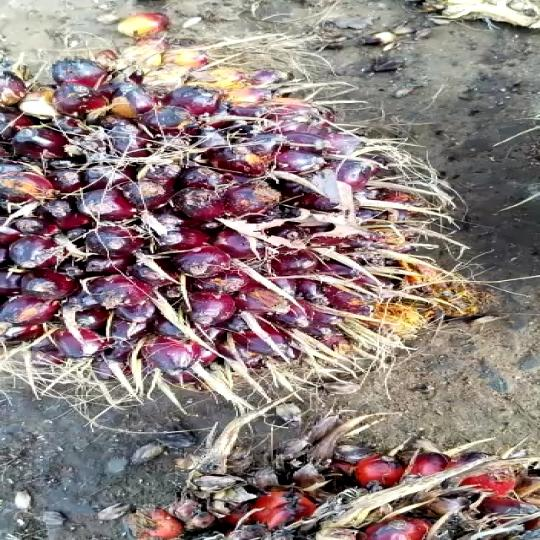kurang masak: (0, 30, 457, 431)
